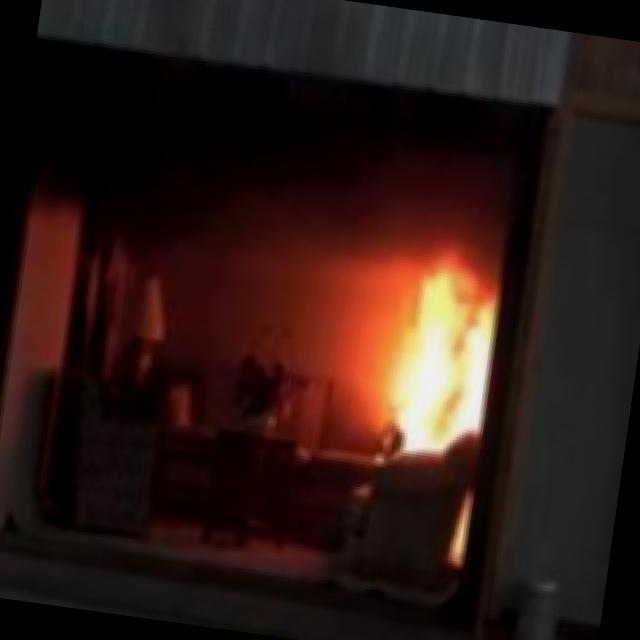fire: (334, 217, 532, 478)
